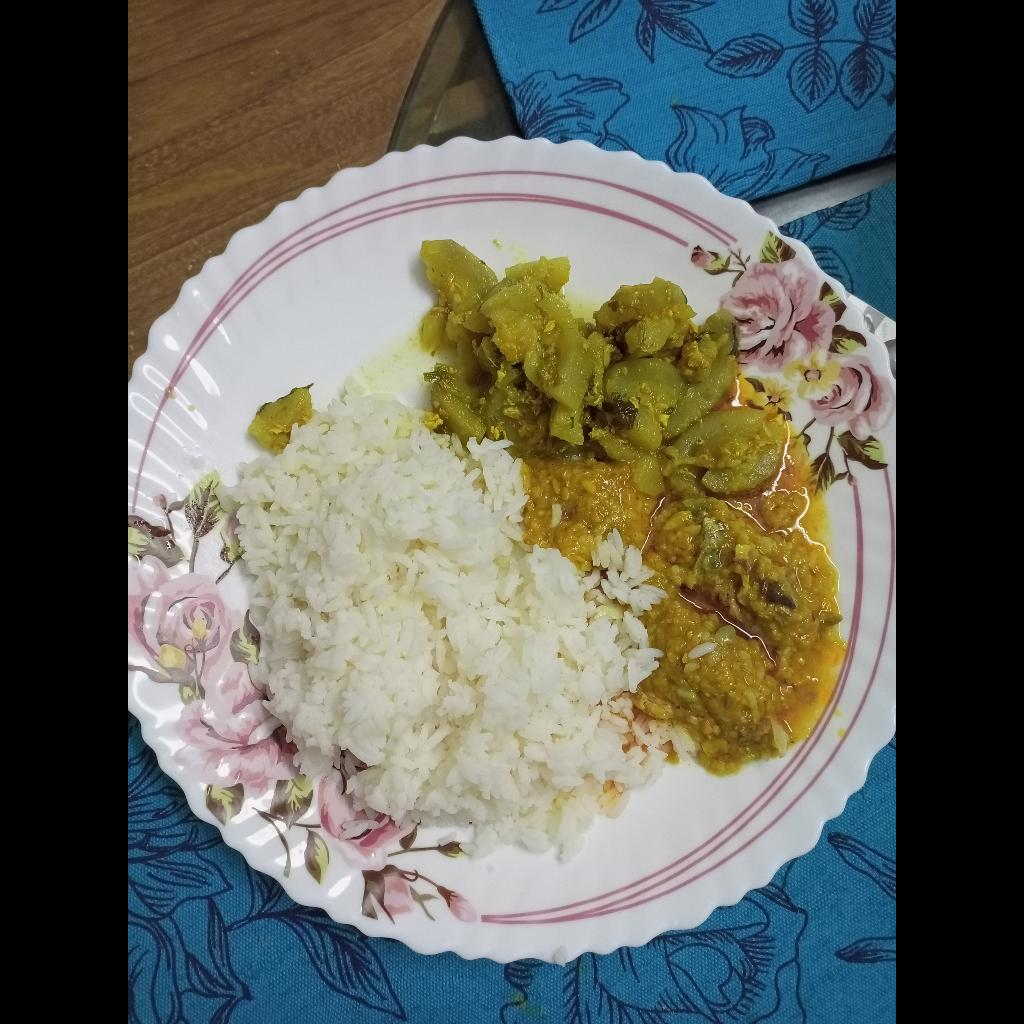daal: (525, 430, 850, 782)
lau: (413, 230, 789, 506), (248, 381, 313, 448)
rice: (209, 371, 693, 866)
